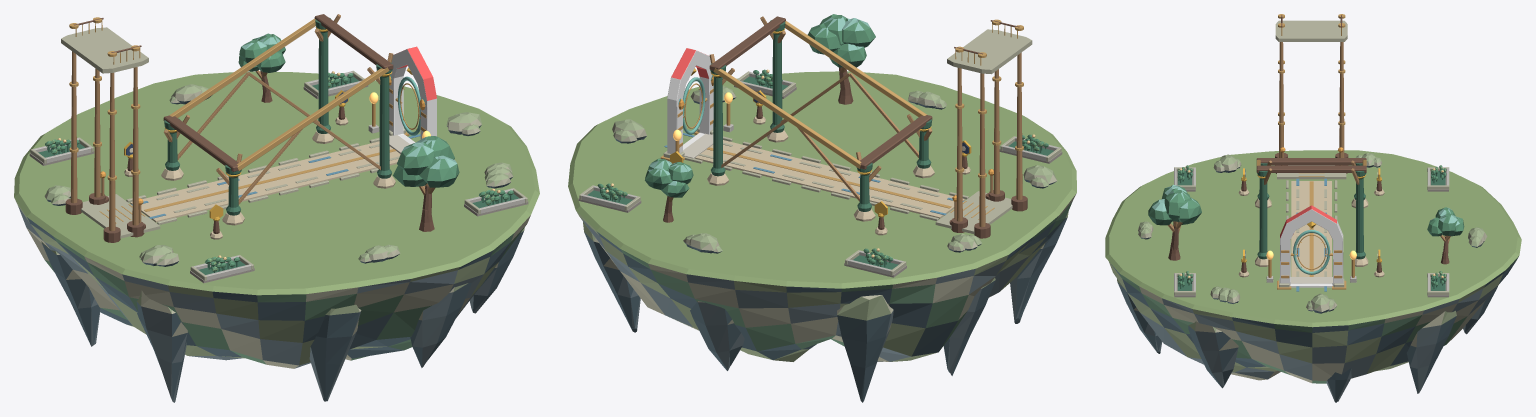
The model's file is SM_SkyIsland_PinballNPC.fbx.
The picture shows the model from 3 angles, left to right: view 1: azimuth 30°, elevation 25°; view 2: azimuth 150°, elevation 25°; view 3: azimuth 270°, elevation 25°; orthographic projection. The views are drawn at different scales.
Parts seen in each view (by area): view 1: SM_SkyIsland_PinballNPC; view 2: SM_SkyIsland_PinballNPC; view 3: SM_SkyIsland_PinballNPC.
Boxes of the visible parts, x1,y1,x2,y2 form: SM_SkyIsland_PinballNPC: [14, 14, 539, 402]; SM_SkyIsland_PinballNPC: [568, 14, 1076, 402]; SM_SkyIsland_PinballNPC: [1105, 14, 1521, 402].
Size of the model in its own units: 2398 by 2401 by 1772.
